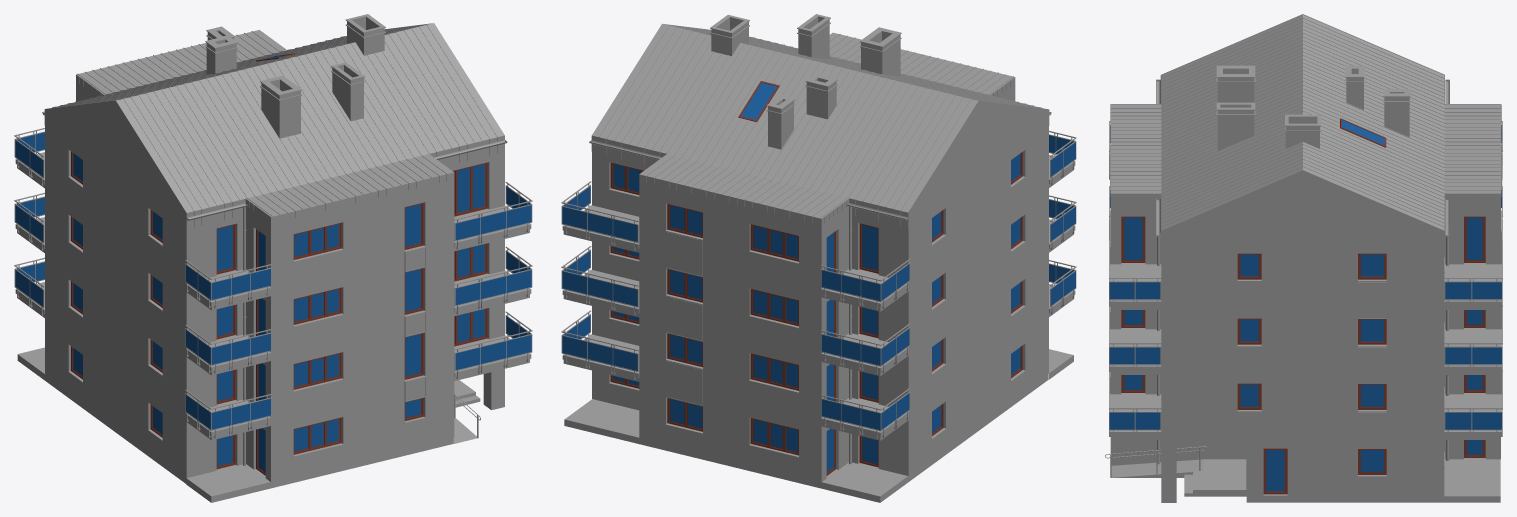
Rendered from building_04.obj.glb.
3 renders of one model, left to right at view 1: azimuth 30°, elevation 25°; view 2: azimuth 150°, elevation 25°; view 3: azimuth 270°, elevation 25°, orthographic.
Parts seen in each view (by area): view 1: Asset3DLoader.sceneRoot; view 2: Asset3DLoader.sceneRoot; view 3: Asset3DLoader.sceneRoot.
Part boxes in pixels (left/top/right/bottom): Asset3DLoader.sceneRoot: left=14, top=14, right=532, bottom=502; Asset3DLoader.sceneRoot: left=561, top=14, right=1076, bottom=502; Asset3DLoader.sceneRoot: left=1105, top=14, right=1502, bottom=502.
Bounding box in the file's own units: 6.12 × 6.34 × 6.55.
